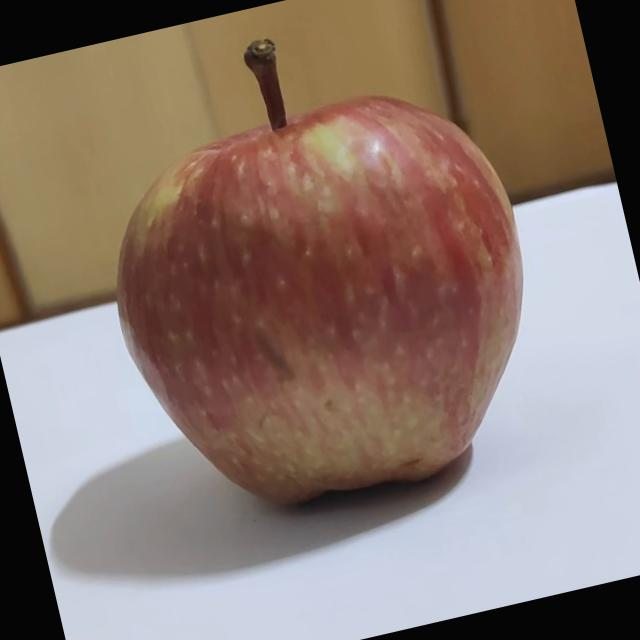apple: (56, 0, 573, 540)
